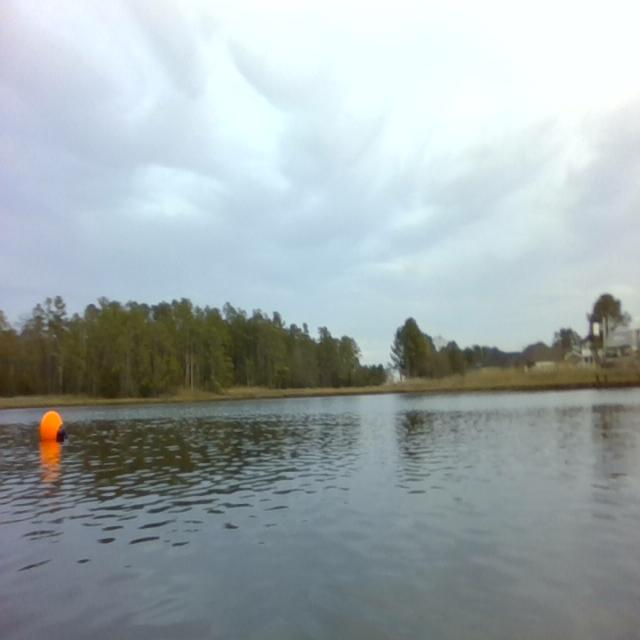Buoy: (36, 406, 70, 448)
